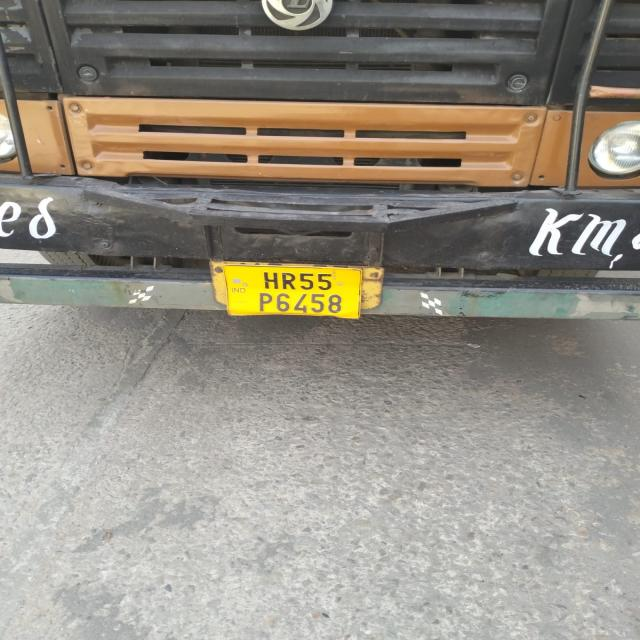License-plate: (218, 264, 346, 323)
